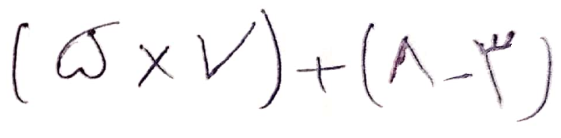character: (53, 20, 121, 82), (196, 20, 256, 80), (472, 31, 517, 107), (519, 35, 553, 123), (257, 7, 284, 111), (387, 35, 435, 86), (361, 20, 385, 108), (294, 55, 346, 95), (135, 43, 175, 89), (11, 20, 30, 105), (442, 70, 475, 85)
